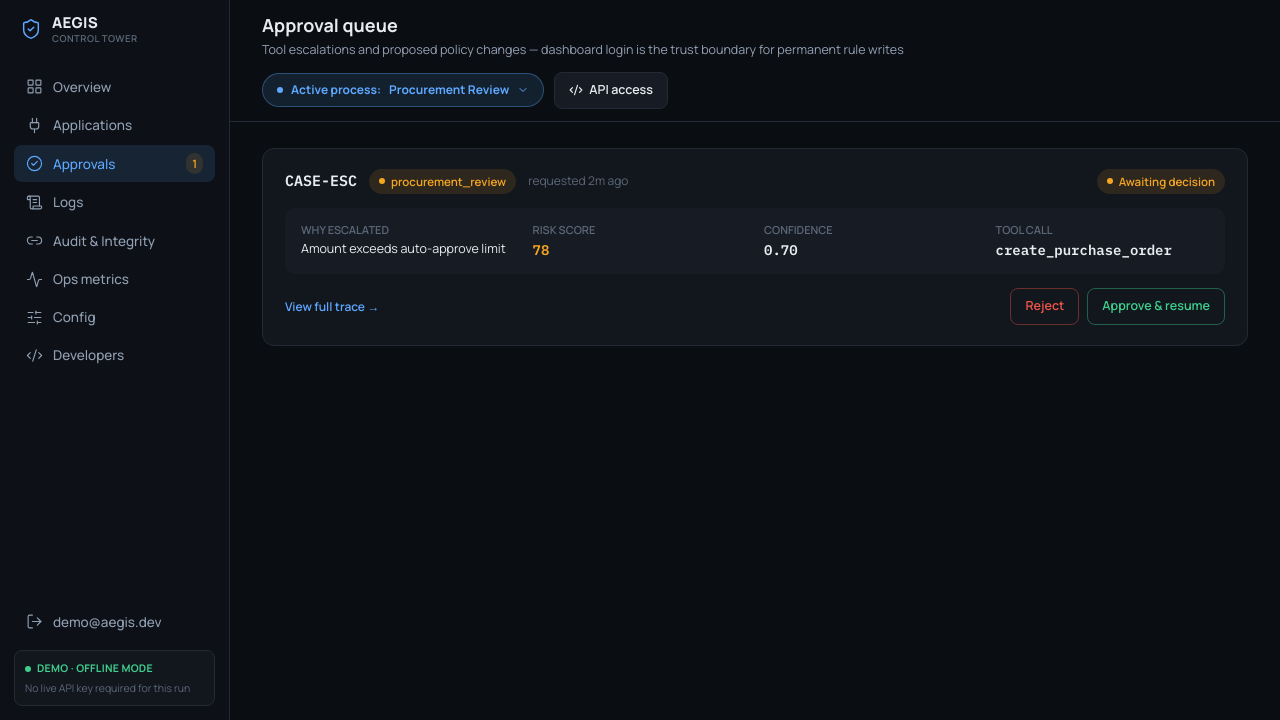
Test: ApprovalsPage › can reject
The image size is (1280, 720).
Expected: the text "CASE-ESC" is shown, top-left (285, 170), bottom-right (357, 192)
Click the button "Reject": (1045, 307) top-left (1010, 288), bottom-right (1079, 325)
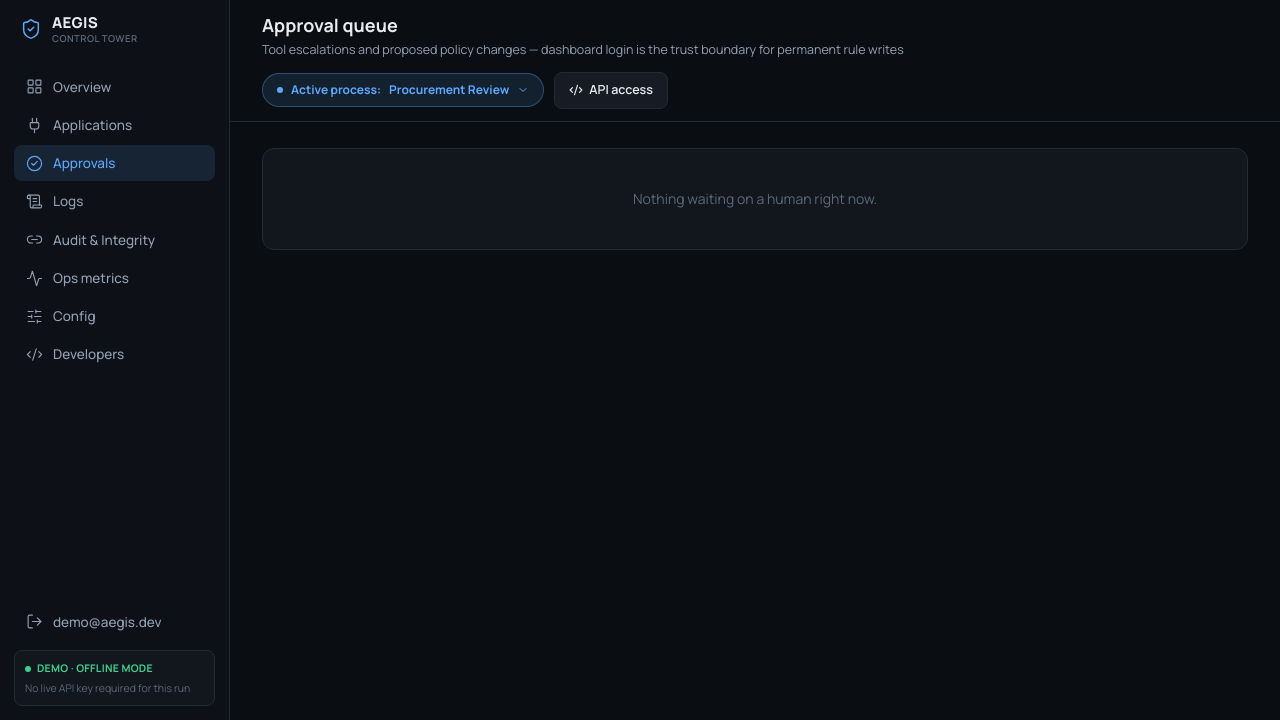
Expected: the text "CASE-ESC" is gone
